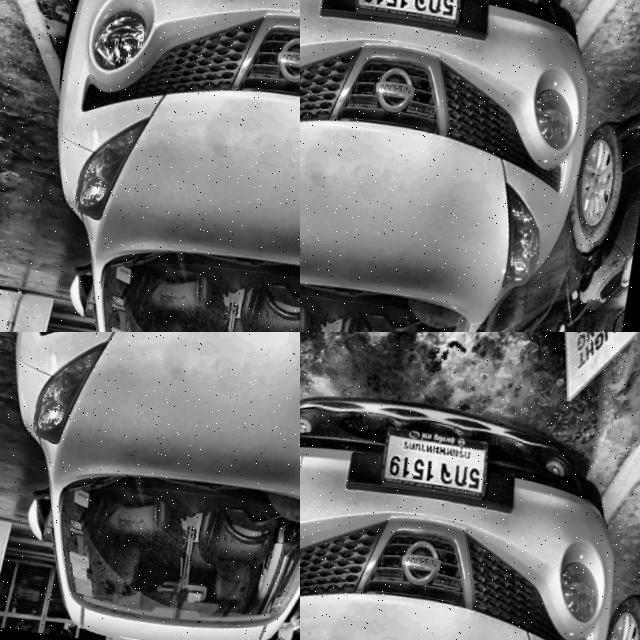license-plate: (370, 420, 497, 513)
